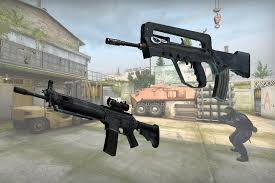gun: (104, 22, 251, 102), (13, 78, 161, 157)
